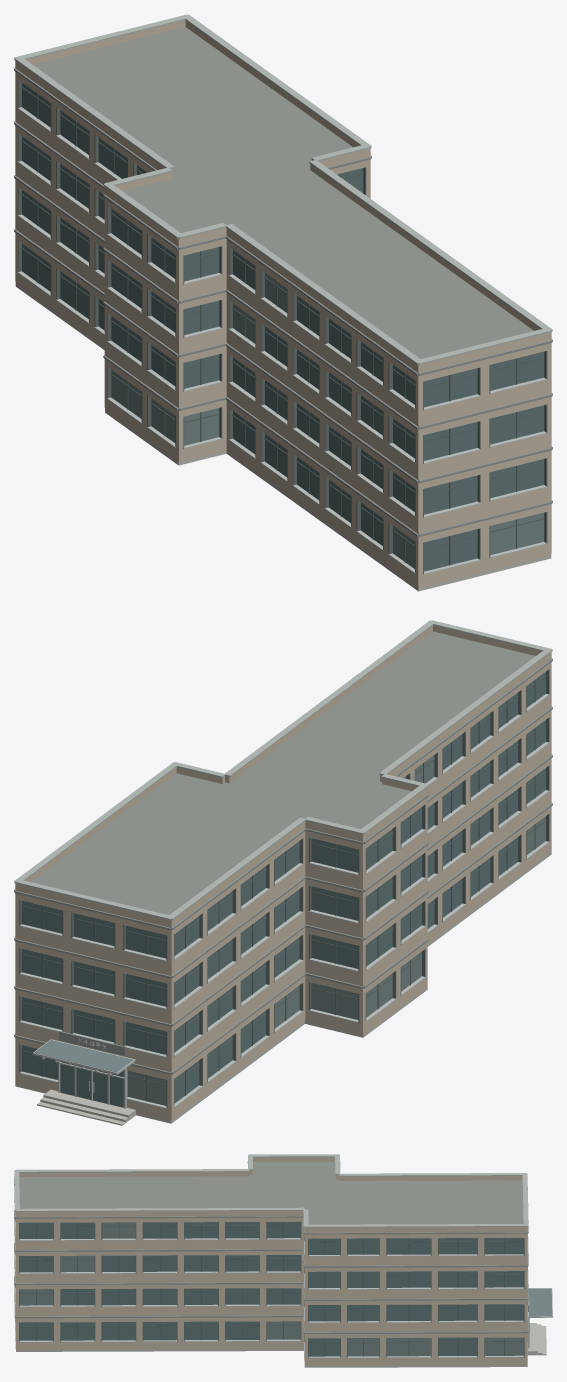
File: south_young_college.glb
3 views of the same model, one above another, from view 1: azimuth 30°, elevation 25°; view 2: azimuth 150°, elevation 25°; view 3: azimuth 270°, elevation 25° (orthographic). The views are drawn at different scales.
Visible parts, largest first — view 1: south_young_college_CollegePlaster, south_young_college_FacultyRoof, south_young_college_WindowGlass, south_young_college_Teaching5TileJoint, south_young_college_WindowReveal, south_young_college_FacultyDarkPanel, south_young_college_WindowAluminium, south_young_college_WindowGlassLight, south_young_college_WindowRubber, south_young_college_EntryStone; view 2: south_young_college_CollegePlaster, south_young_college_FacultyRoof, south_young_college_WindowGlass, south_young_college_WindowAluminium, south_young_college_Teaching5TileJoint, south_young_college_FacultyDarkPanel, south_young_college_WindowReveal, south_young_college_WindowGlassLight, south_young_college_WindowRubber, south_young_college_EntryStone; view 3: south_young_college_CollegePlaster, south_young_college_WindowGlass, south_young_college_FacultyRoof, south_young_college_FacultyDarkPanel, south_young_college_WindowGlassLight, south_young_college_Teaching5TileJoint, south_young_college_WindowAluminium, south_young_college_WindowRubber, south_young_college_WindowReveal, south_young_college_EntryStone.
Boxes of the visible parts, x1,y1,x2,y2 form: south_young_college_CollegePlaster: [15, 20, 551, 588]; south_young_college_FacultyRoof: [33, 27, 533, 358]; south_young_college_WindowGlass: [22, 82, 544, 571]; south_young_college_Teaching5TileJoint: [14, 14, 552, 364]; south_young_college_WindowReveal: [18, 80, 547, 574]; south_young_college_FacultyDarkPanel: [14, 67, 552, 536]; south_young_college_WindowAluminium: [17, 107, 546, 574]; south_young_college_WindowGlassLight: [111, 273, 544, 568]; south_young_college_WindowRubber: [21, 86, 544, 565]; south_young_college_EntryStone: [15, 284, 551, 591]; south_young_college_CollegePlaster: [15, 625, 551, 1121]; south_young_college_FacultyRoof: [31, 631, 535, 914]; south_young_college_WindowGlass: [22, 672, 545, 1107]; south_young_college_WindowAluminium: [19, 693, 549, 1108]; south_young_college_Teaching5TileJoint: [14, 620, 552, 920]; south_young_college_FacultyDarkPanel: [14, 658, 552, 1074]; south_young_college_WindowReveal: [19, 669, 549, 1108]; south_young_college_WindowGlassLight: [34, 755, 545, 1105]; south_young_college_WindowRubber: [21, 675, 546, 1101]; south_young_college_EntryStone: [15, 852, 551, 1125]; south_young_college_CollegePlaster: [15, 1157, 527, 1365]; south_young_college_WindowGlass: [19, 1221, 523, 1356]; south_young_college_FacultyRoof: [19, 1161, 523, 1224]; south_young_college_FacultyDarkPanel: [14, 1161, 528, 1333]; south_young_college_WindowGlassLight: [19, 1222, 552, 1356]; south_young_college_Teaching5TileJoint: [14, 1154, 528, 1227]; south_young_college_WindowAluminium: [15, 1218, 552, 1358]; south_young_college_WindowRubber: [19, 1222, 523, 1356]; south_young_college_WindowReveal: [15, 1218, 524, 1357]; south_young_college_EntryStone: [16, 1323, 546, 1367].
Bounding box in the file's own units: 16.44 × 14.92 × 51.49.
